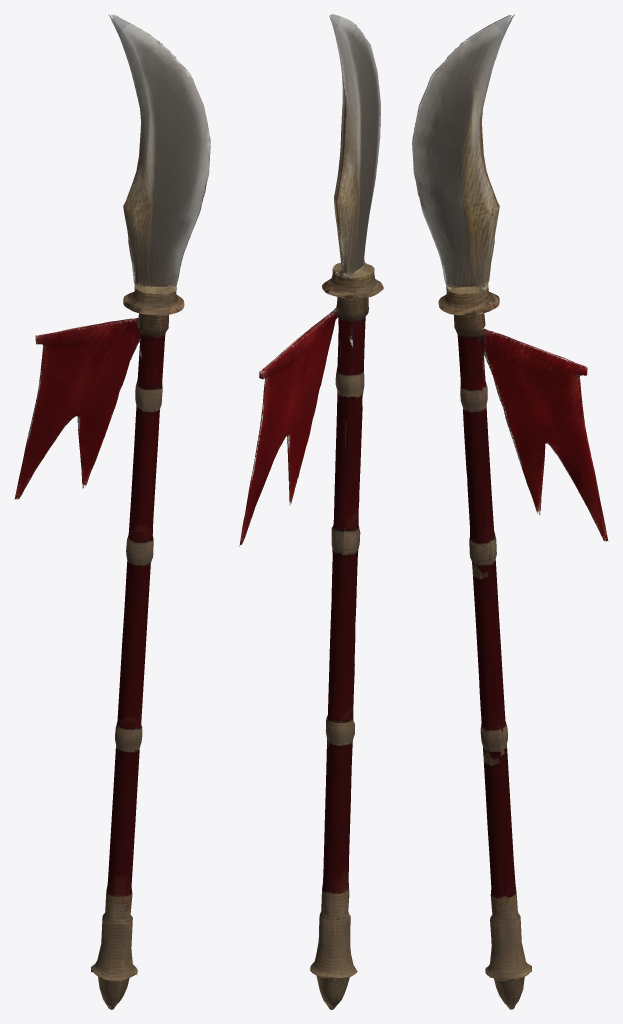
The model's file is Weapon_T5.fbx.
3 renders of one model, left to right at view 1: azimuth 90°, elevation 25°; view 2: azimuth 150°, elevation 25°; view 3: azimuth 270°, elevation 25°, orthographic.
Parts seen in each view (by area): view 1: Vanguard_Weapon; view 2: Vanguard_Weapon; view 3: Vanguard_Weapon.
Part boxes in pixels (x1=…): Vanguard_Weapon: x1=14, y1=14, x2=210, y2=1009; Vanguard_Weapon: x1=239, y1=14, x2=383, y2=1009; Vanguard_Weapon: x1=412, y1=14, x2=608, y2=1009.
Bounding box in the file's own units: 0.1372 × 1.9 × 0.3399.
1 material, 1 textured.
